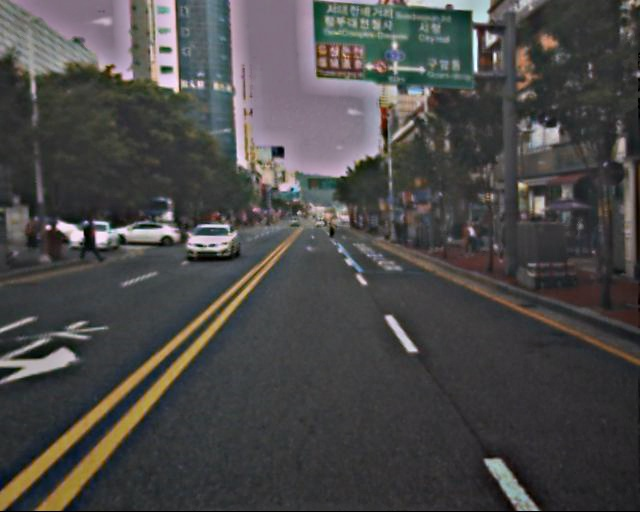person: (491, 214, 511, 263), (79, 217, 98, 264), (461, 222, 477, 260), (472, 218, 486, 252), (395, 221, 411, 244), (327, 213, 337, 237)
